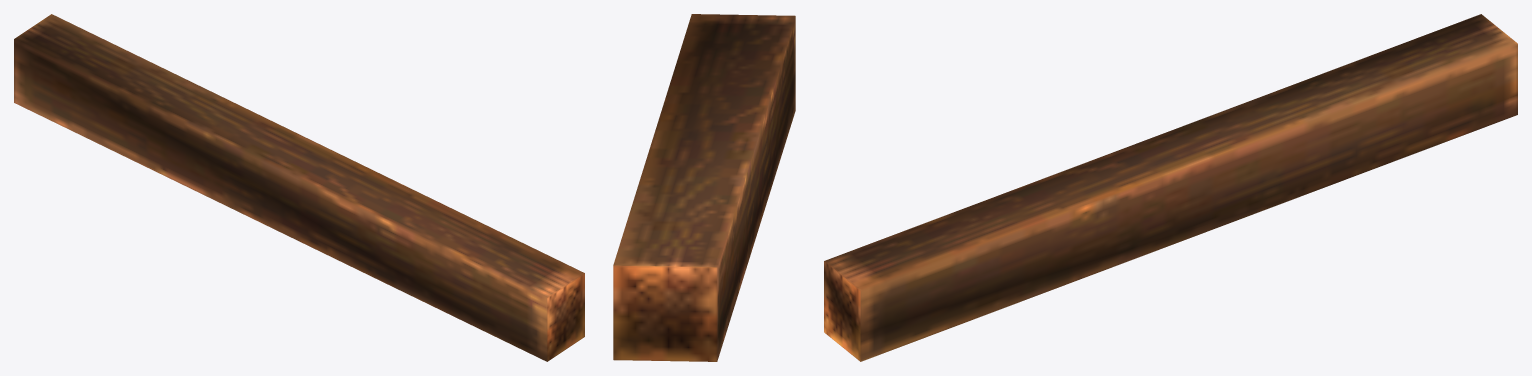
Rendered from SWORDLIGHT20_JAILBRACE10.fbx.
3 views of the same model, side by side, from view 1: azimuth 30°, elevation 25°; view 2: azimuth 150°, elevation 25°; view 3: azimuth 270°, elevation 25° (orthographic). The views are drawn at different scales.
Visible parts, largest first — view 1: SWORDLIGHT20_JAILBRACE10; view 2: SWORDLIGHT20_JAILBRACE10; view 3: SWORDLIGHT20_JAILBRACE10.
Part boxes in pixels (box(x1,y1,x2,y2)): SWORDLIGHT20_JAILBRACE10: box(14, 14, 584, 361); SWORDLIGHT20_JAILBRACE10: box(613, 14, 795, 361); SWORDLIGHT20_JAILBRACE10: box(824, 14, 1517, 361).
Size of the model in its own units: 19316 by 10478 by 35203.
1 material, 1 textured.
